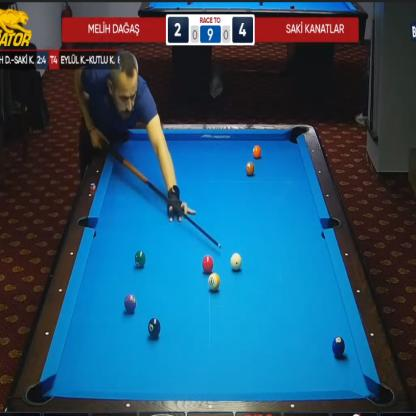Ball: (148, 317, 161, 338), (332, 336, 345, 357), (124, 293, 136, 313), (134, 250, 146, 268), (230, 253, 242, 271), (209, 273, 220, 291), (202, 256, 214, 272), (252, 146, 261, 158), (246, 162, 254, 175)
